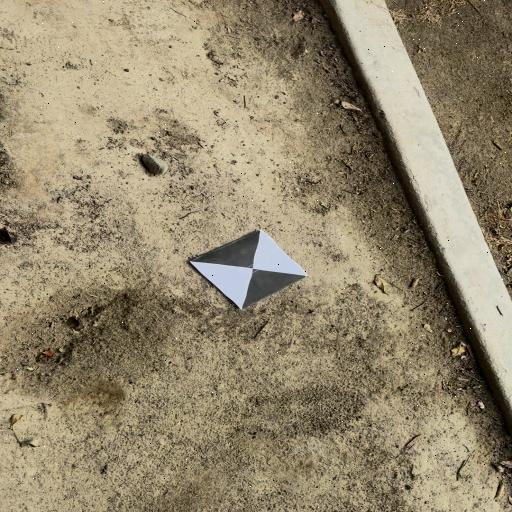target: (191, 228, 308, 310)
